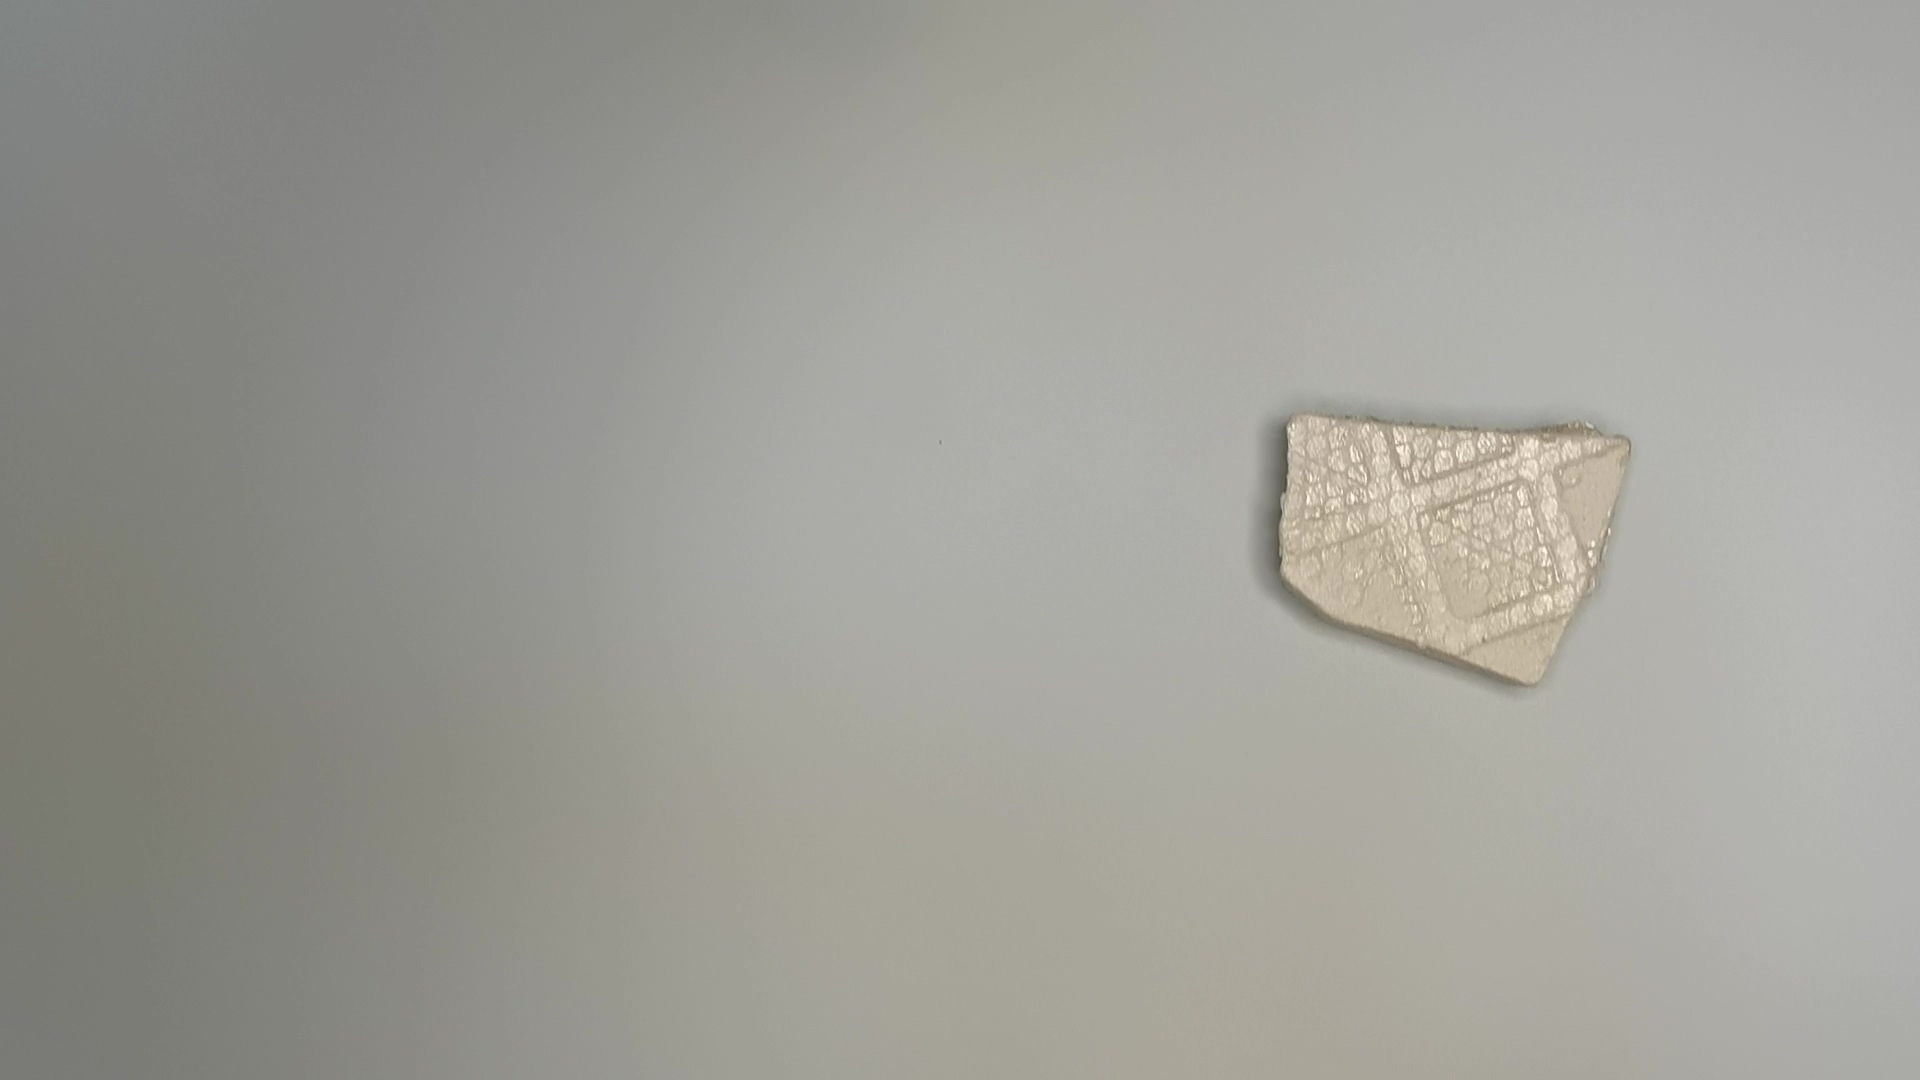ceramic: (1258, 415, 1633, 698)
